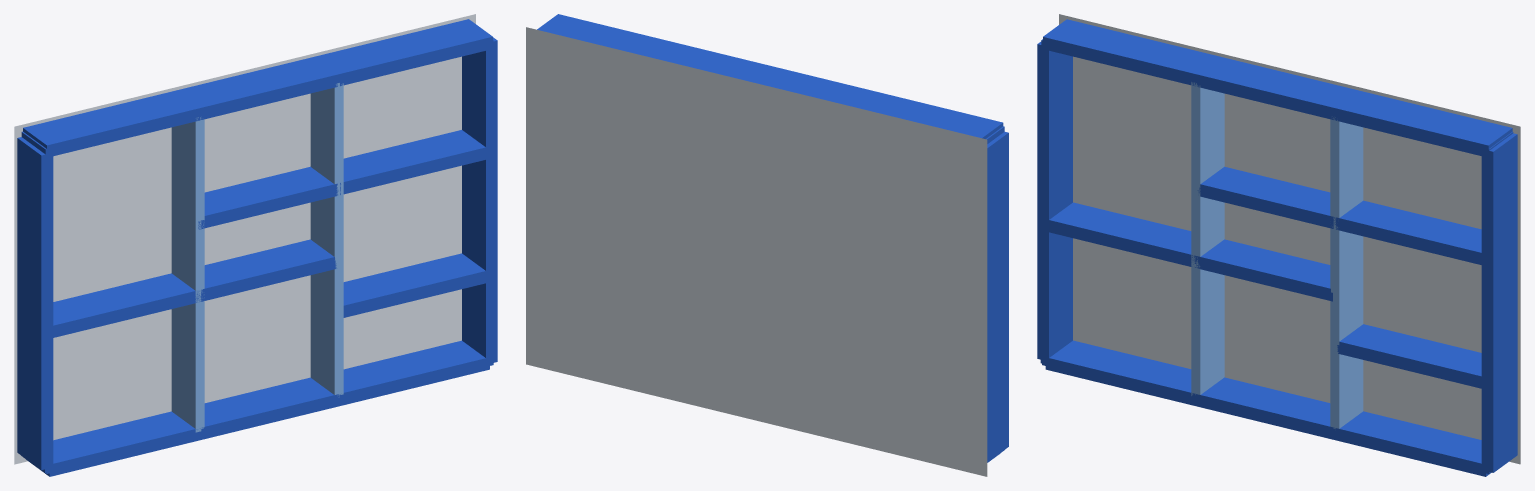
Rendered from multi_room_v2.obj.
The picture shows the model from 3 angles, left to right: view 1: azimuth 30°, elevation 25°; view 2: azimuth 150°, elevation 25°; view 3: azimuth 330°, elevation 25°; orthographic projection.
Bounding box in the file's own units: 33.25 × 23.25 × 3.05.
